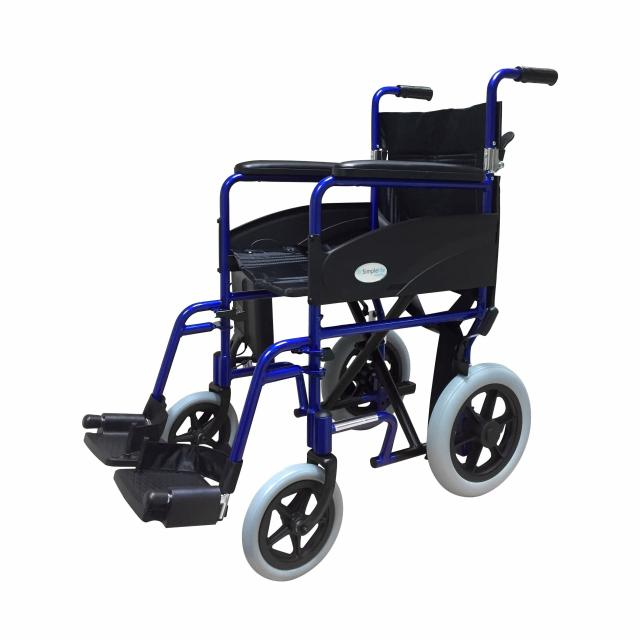wheelchair: (63, 40, 592, 581)
